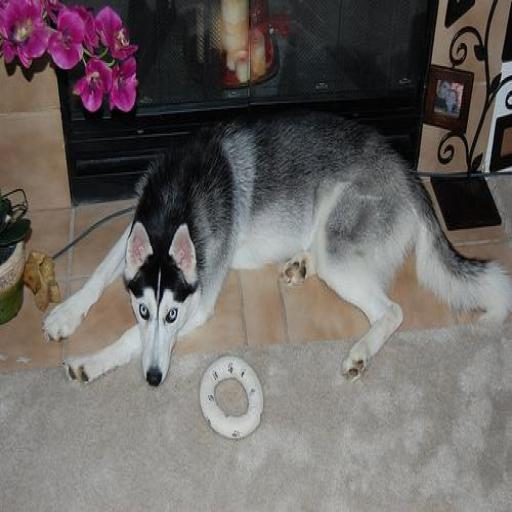dog_face: (125, 215, 192, 391)
